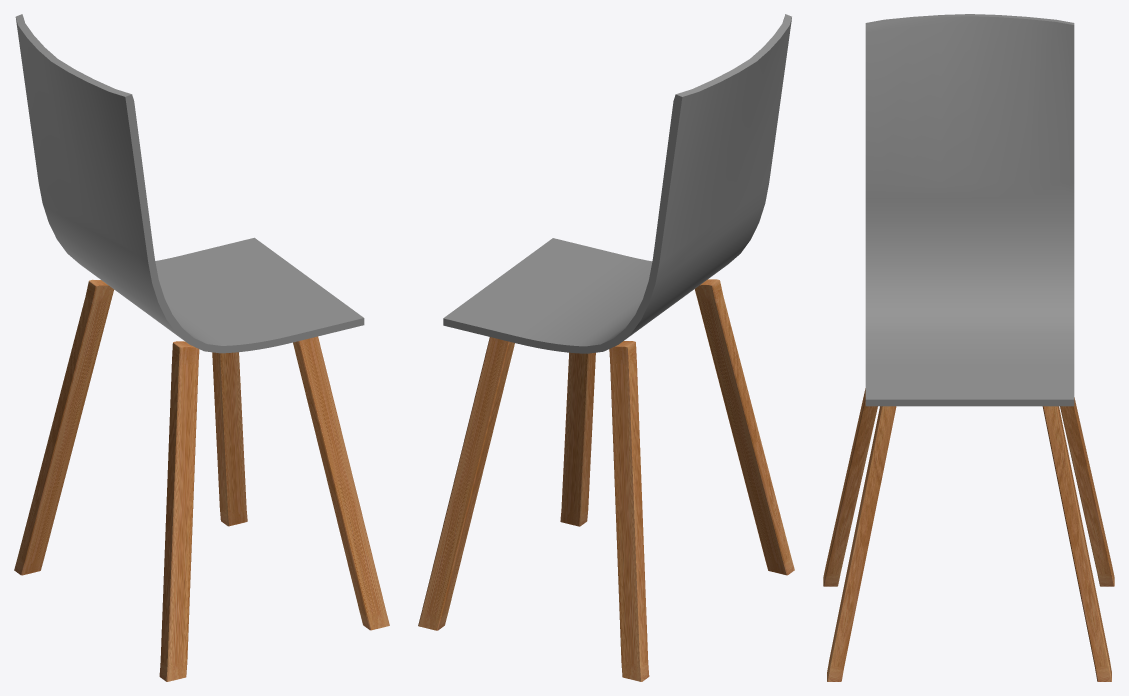
The model's file is LabChair.fbx.
3 renders of one model, left to right at view 1: azimuth 30°, elevation 25°; view 2: azimuth 150°, elevation 25°; view 3: azimuth 270°, elevation 25°, orthographic. The views are drawn at different scales.
Visible parts, largest first — view 1: Chair1, Chair1L3, Chair1L4, Chair1L2, Chair1L1; view 2: Chair1, Chair1L4, Chair1L3, Chair1L1, Chair1L2; view 3: Chair1, Chair1L2, Chair1L1, Chair1L3, Chair1L4.
Boxes of the visible parts, box(x1,y1,x2,y2) form: Chair1: box(15, 14, 364, 353); Chair1L3: box(159, 341, 199, 681); Chair1L4: box(14, 279, 114, 575); Chair1L2: box(293, 336, 389, 630); Chair1L1: box(212, 352, 247, 526); Chair1: box(443, 14, 791, 353); Chair1L4: box(609, 341, 649, 681); Chair1L3: box(694, 279, 794, 575); Chair1L1: box(418, 337, 514, 630); Chair1L2: box(560, 352, 595, 526); Chair1: box(865, 14, 1074, 406); Chair1L2: box(827, 406, 896, 681); Chair1L1: box(1042, 406, 1111, 681); Chair1L3: box(823, 388, 877, 586); Chair1L4: box(1060, 397, 1114, 586).
Bounding box in the file's own units: 29.26 × 60.87 × 29.42.
Materials: 2 (1 with a texture image).
